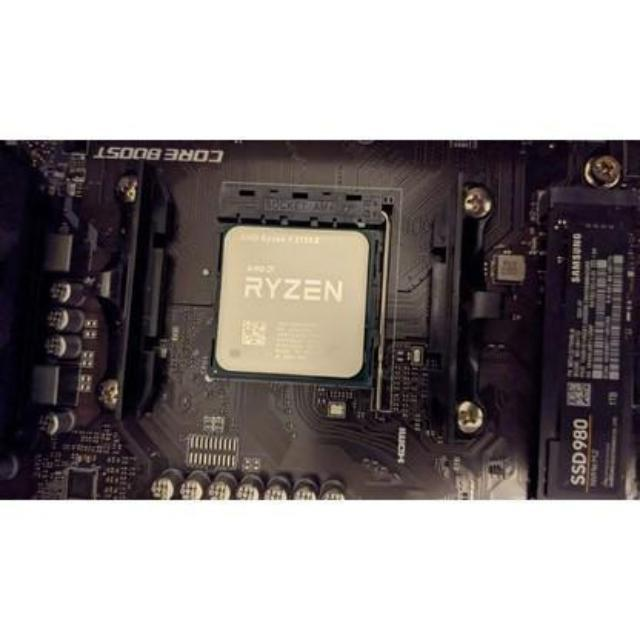CPU: (216, 217, 370, 386)
